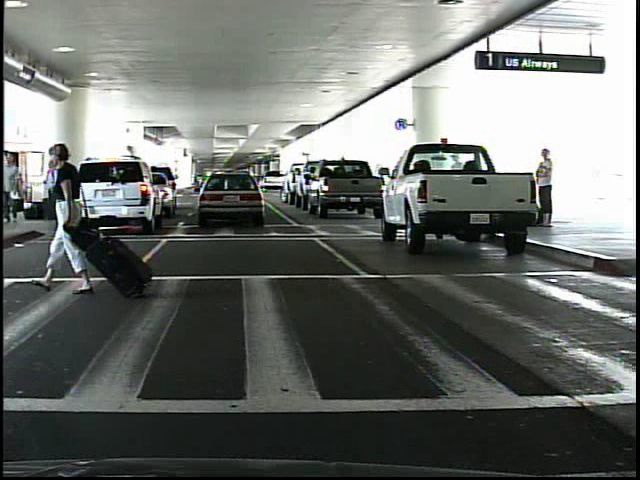person: (34, 143, 105, 292), (521, 150, 559, 228), (41, 157, 63, 222), (2, 153, 22, 223)
